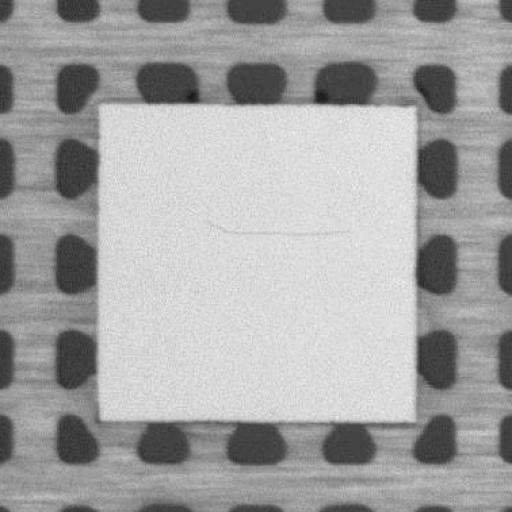DIE_CRACK: (203, 219, 356, 240)
